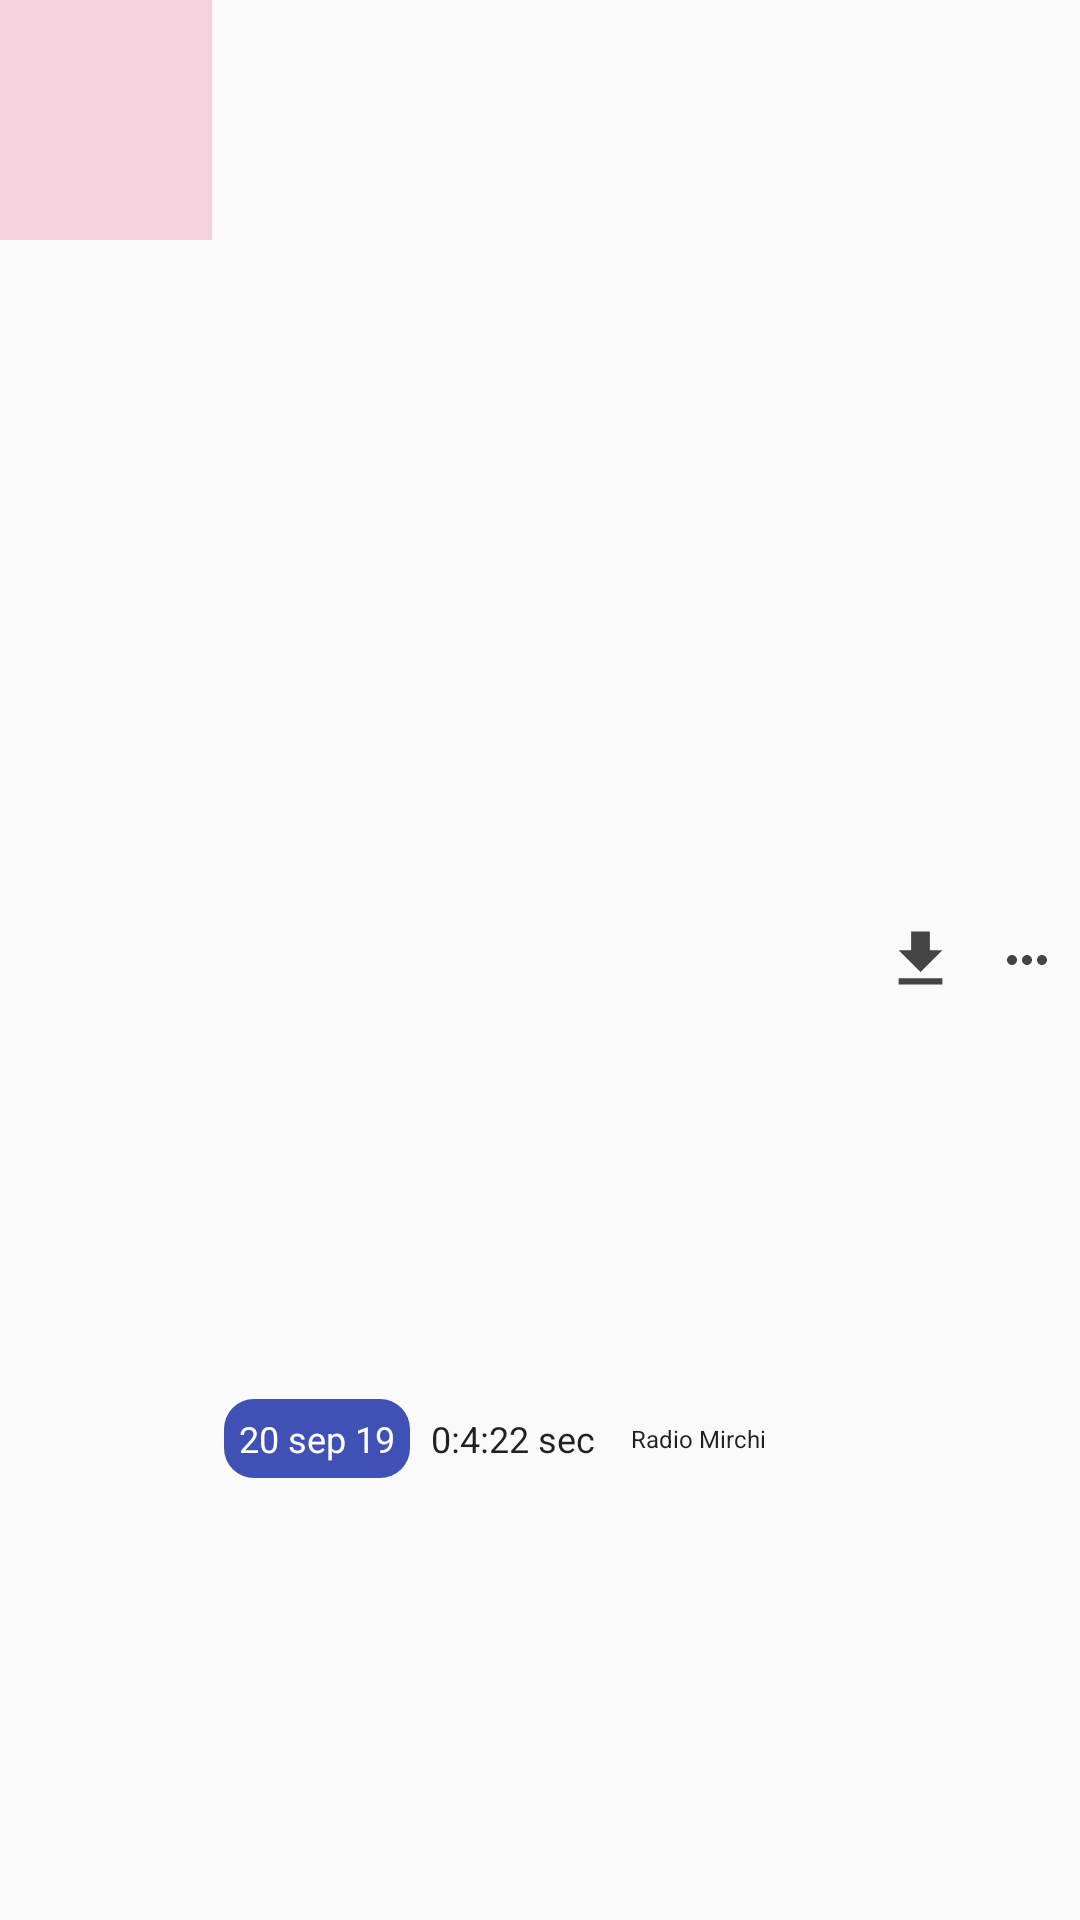

Icons on this 1080 x 1920 Android screen, each with its box as [x1=x1, y1=y1, x2=x2, y2=y2]:
file download: [x1=898, y1=931, x2=943, y2=985]
more horiz: [x1=1007, y1=955, x2=1047, y2=965]
